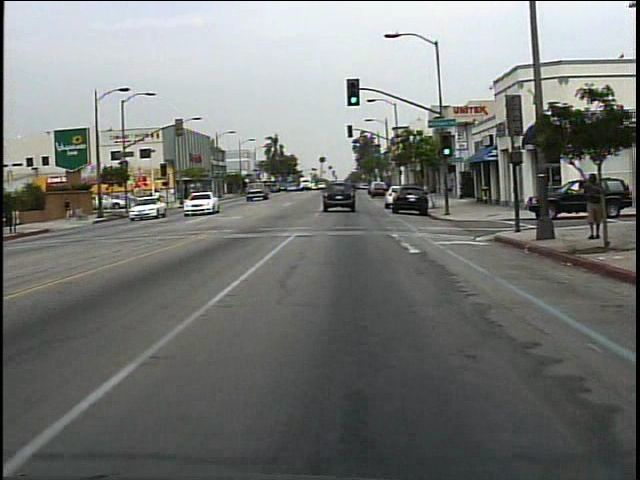person: (578, 167, 604, 246), (62, 194, 81, 222), (151, 185, 167, 210)
